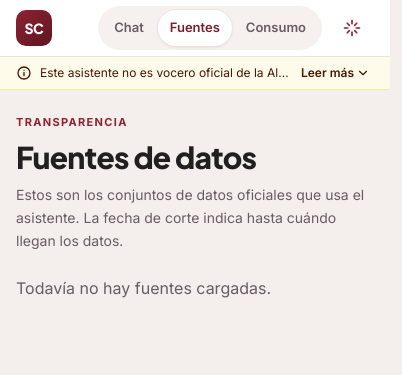
Test: Disclaimer › stays reachable on every page as a one-line note that unfolds
This screenshot has width=402, height=375.
Step 1. Click the button "Leer más" → click(335, 73), box [297,59,374,87]
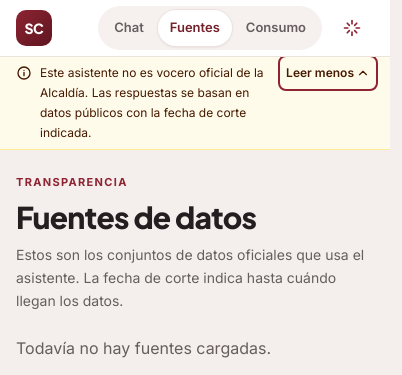
Expected: the button "Leer menos" is expanded, [282,59,374,87]
